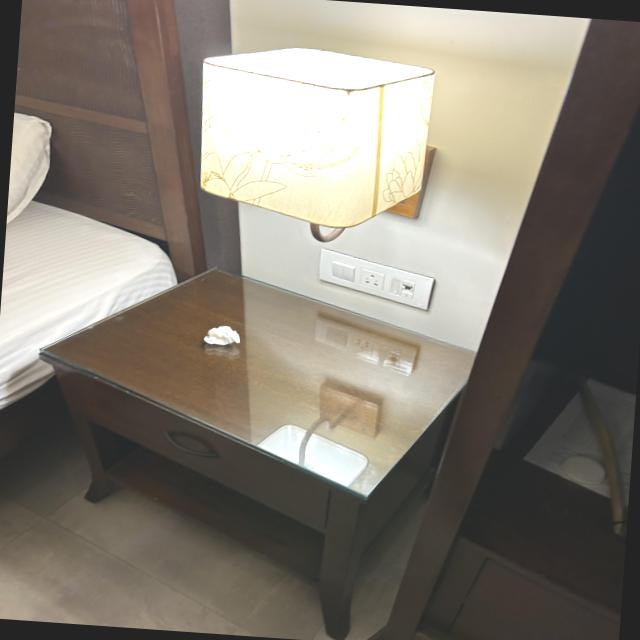mess: (54, 257, 495, 514)
